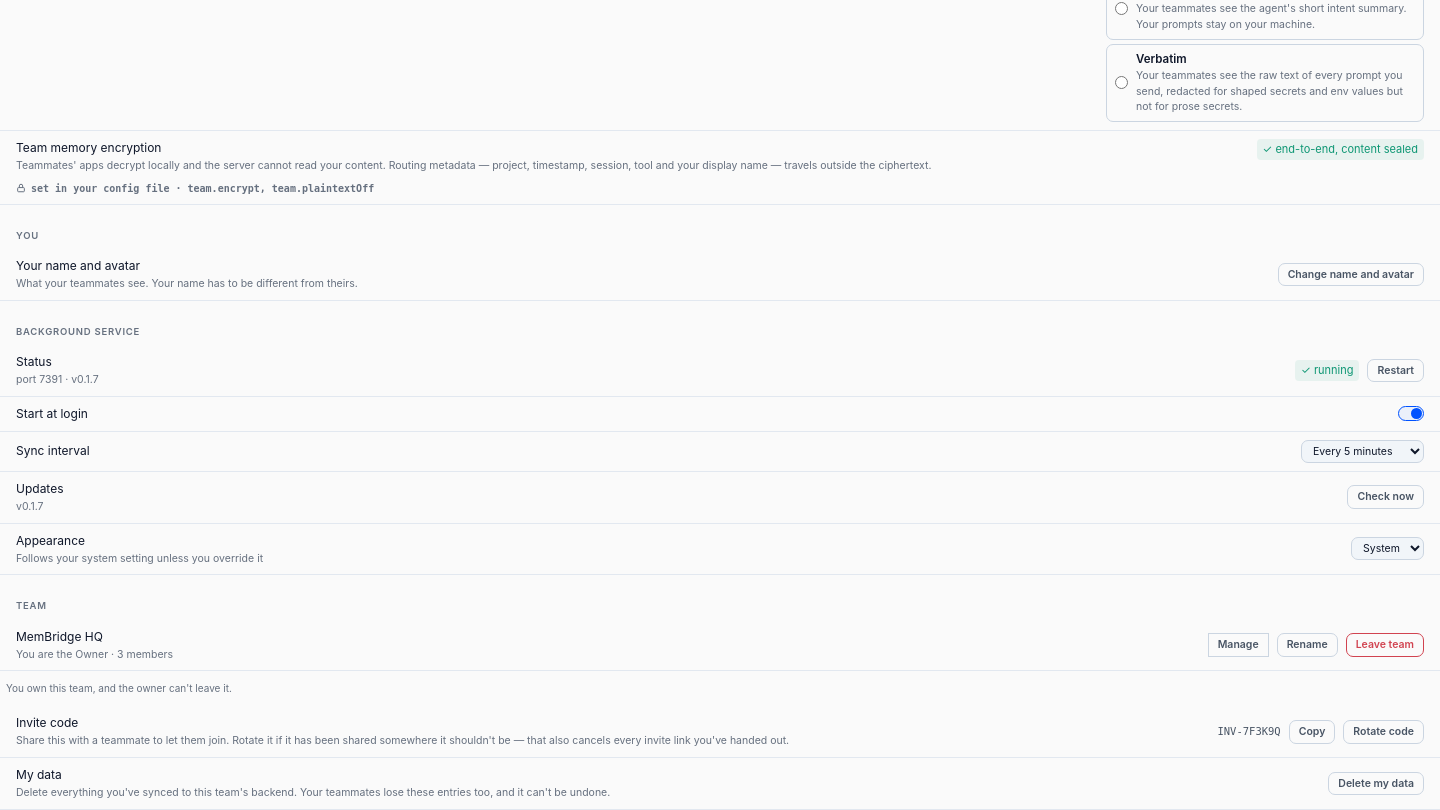
Test case: rotating the standing invite code › shows the new code
This screenshot has width=1440, height=810.
(page scrolled)
What coordinates should you click on to do the following:
click the button "Rotate code"
I would click on:
 (1384, 732)
Its box is left=1343, top=720, right=1424, bottom=744.
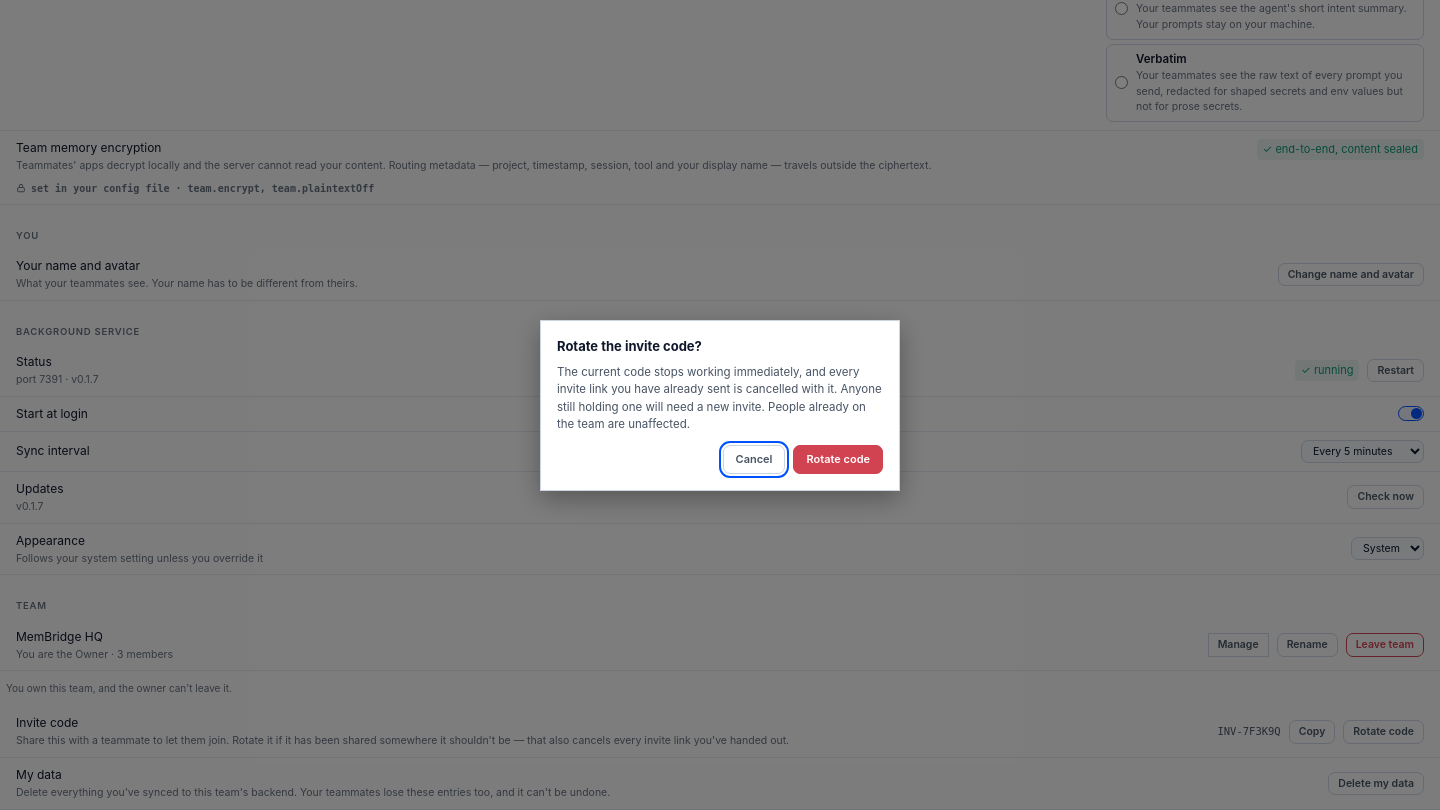
What coordinates should you click on to do the following:
click the button "Rotate code"
I would click on:
 (838, 459)
Its box is left=794, top=445, right=883, bottom=474.
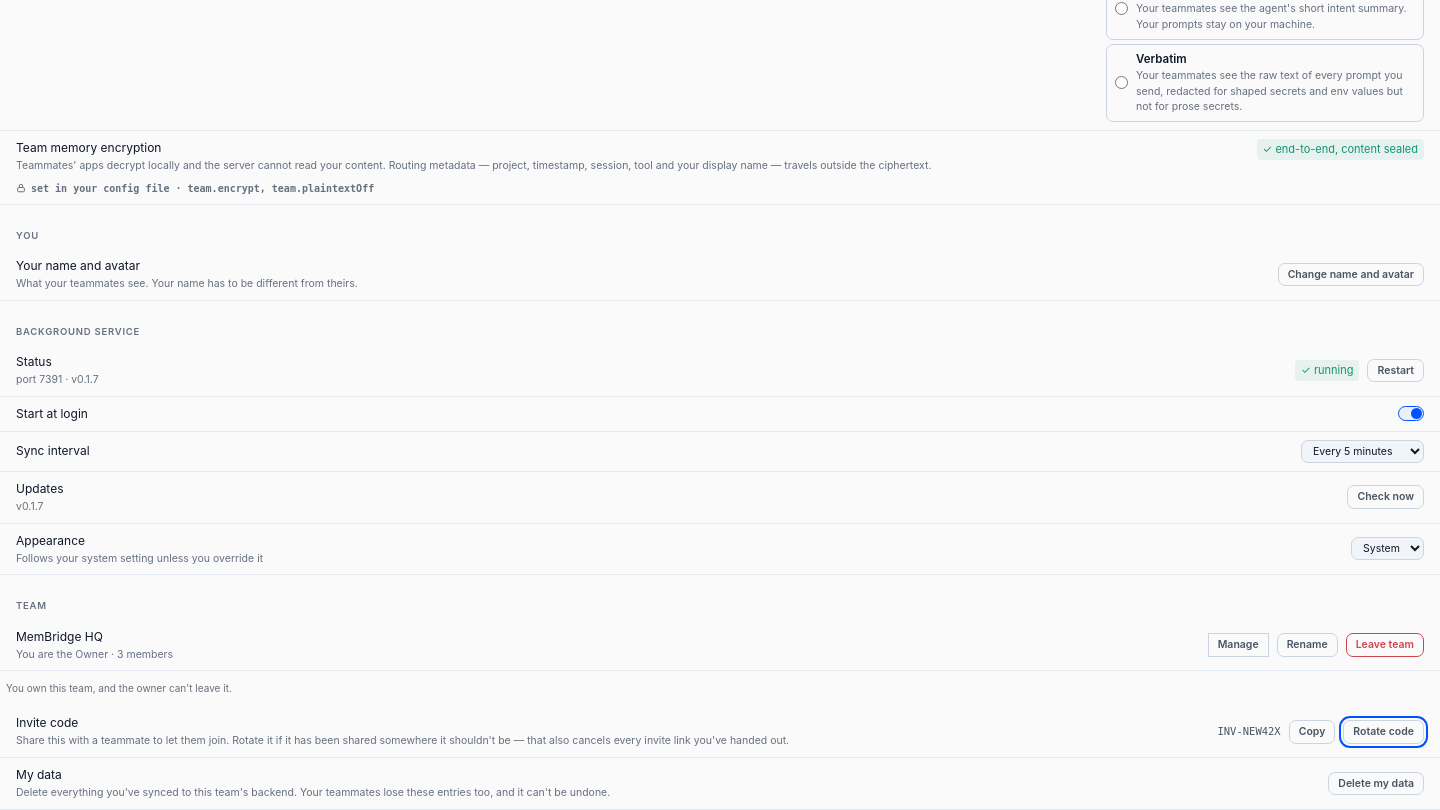
Check: the text "INV-NEW42X" is shown, box left=1218, top=724, right=1281, bottom=740
